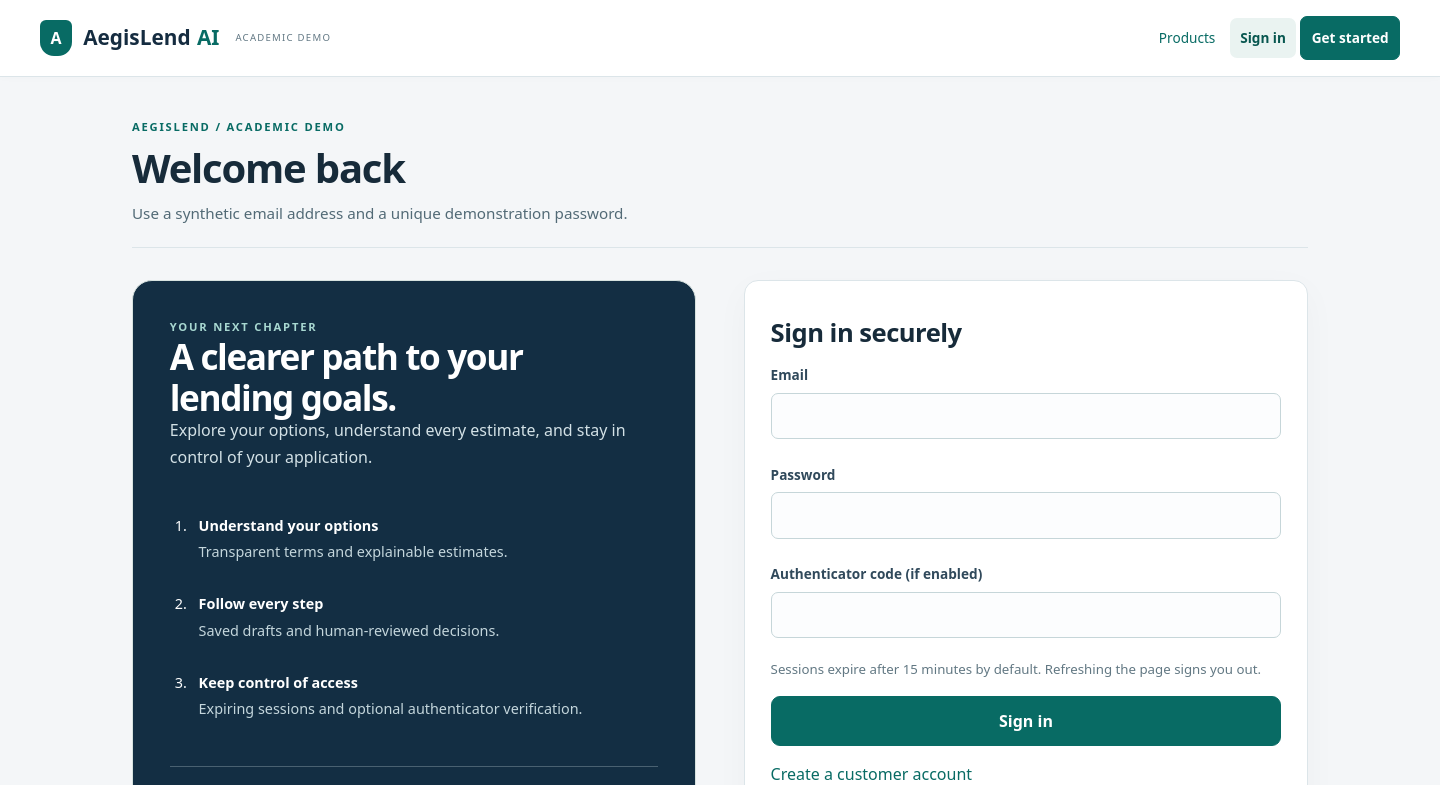
Test: appointment conflict is shown without a fake success
Type "synthetic@example.com" into the field labelled "Email".
click(1026, 416); type("synthetic@example.com")  # box [771,393,1281,439]
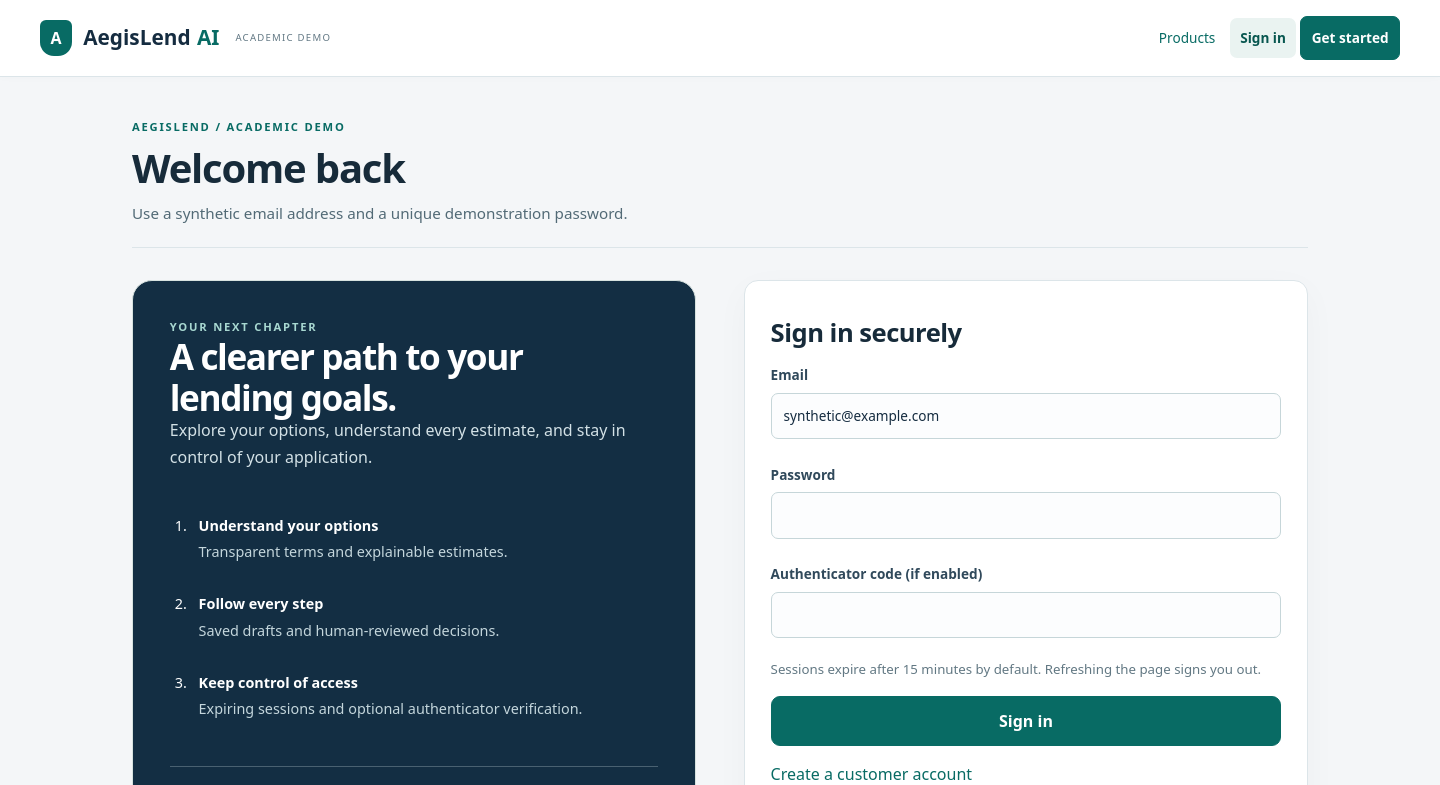
Type "synthetic-test-input-only" into the password field labelled "Password".
click(1026, 516); type("synthetic-test-input-only")  # box [771,492,1281,539]
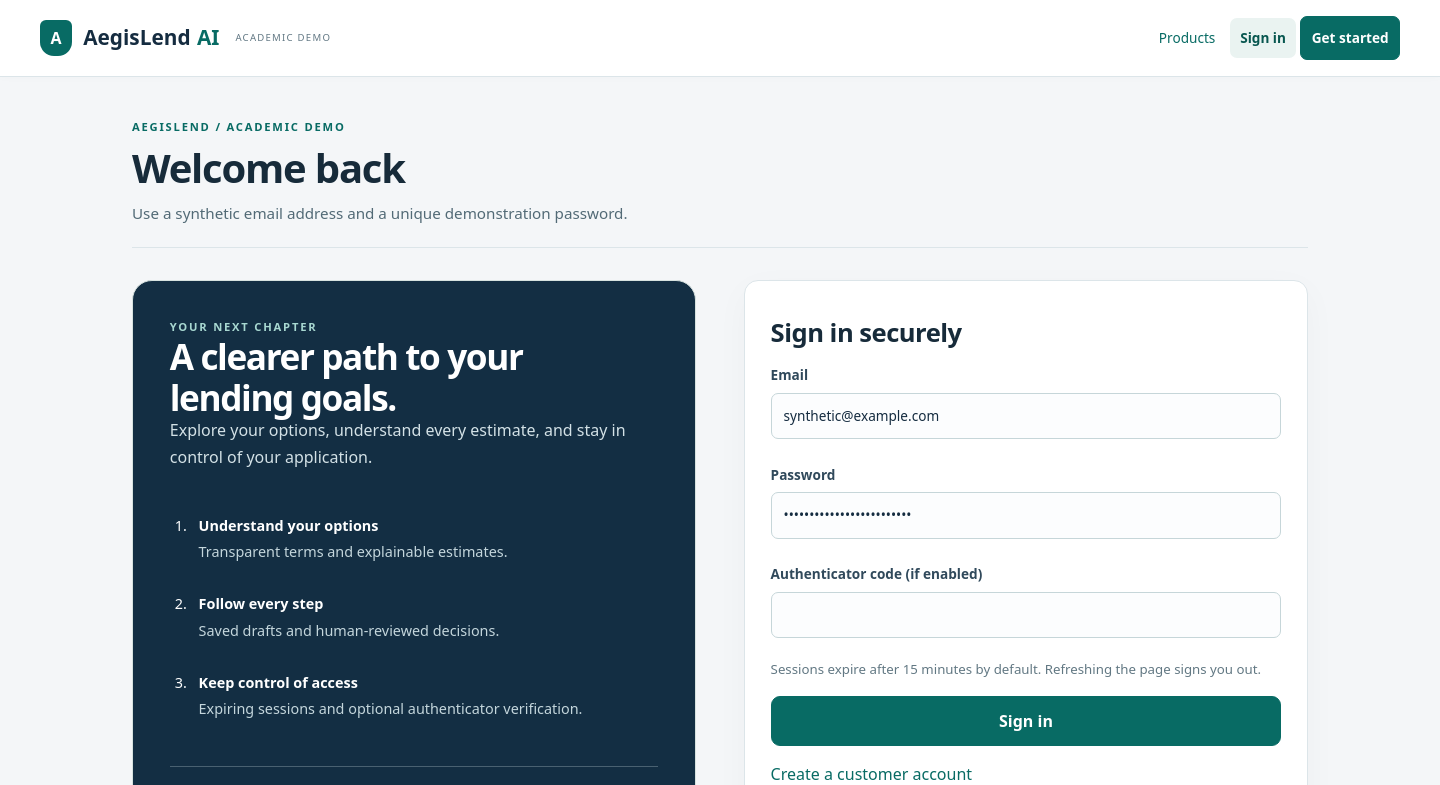
Click the button "Sign in".
click(1026, 721)  # box [771,696,1281,746]
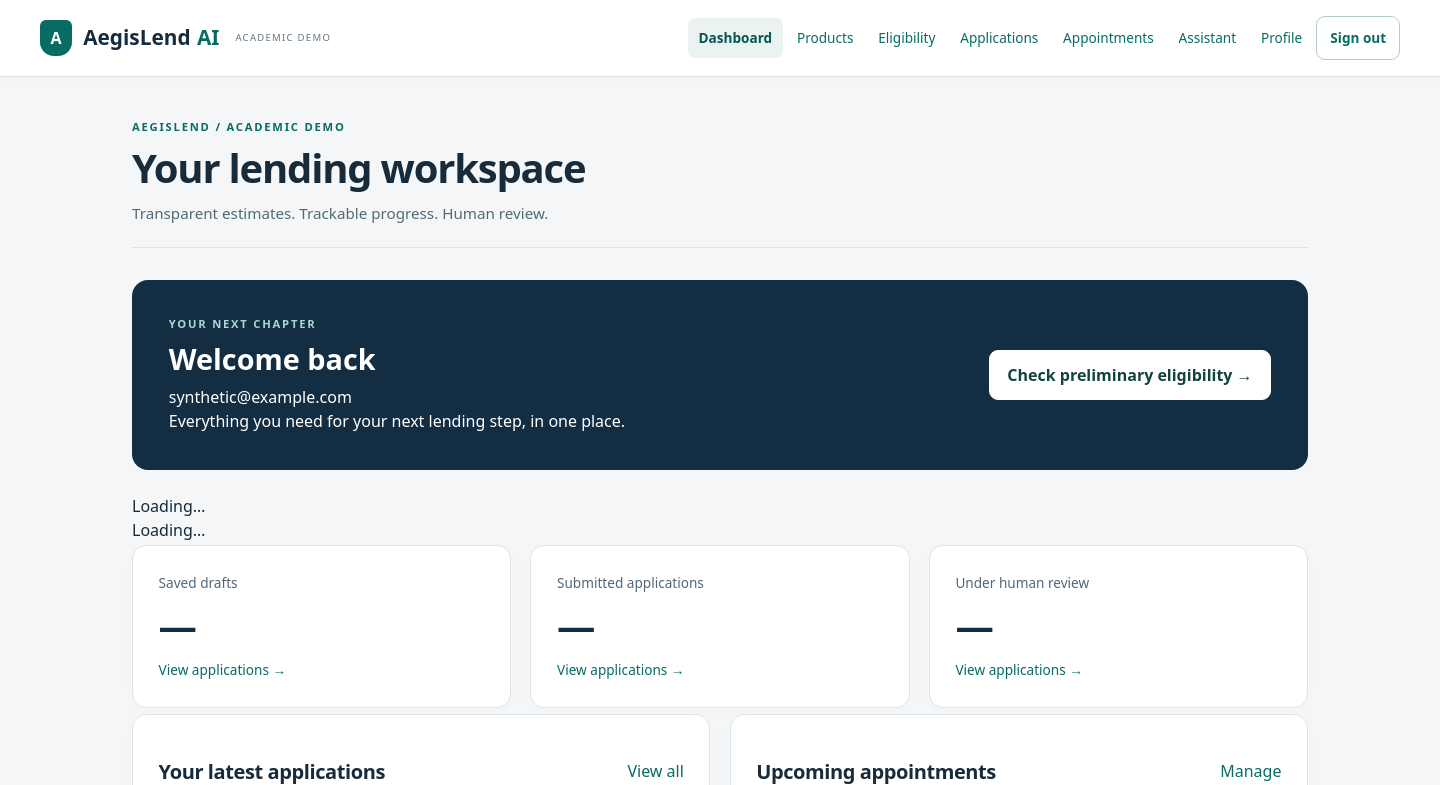
Check: the heading "Your lending workspace" is shown, box [132,140,585,195]
Click the link "Appointments".
click(1108, 37)  # box [1063,28,1154,47]
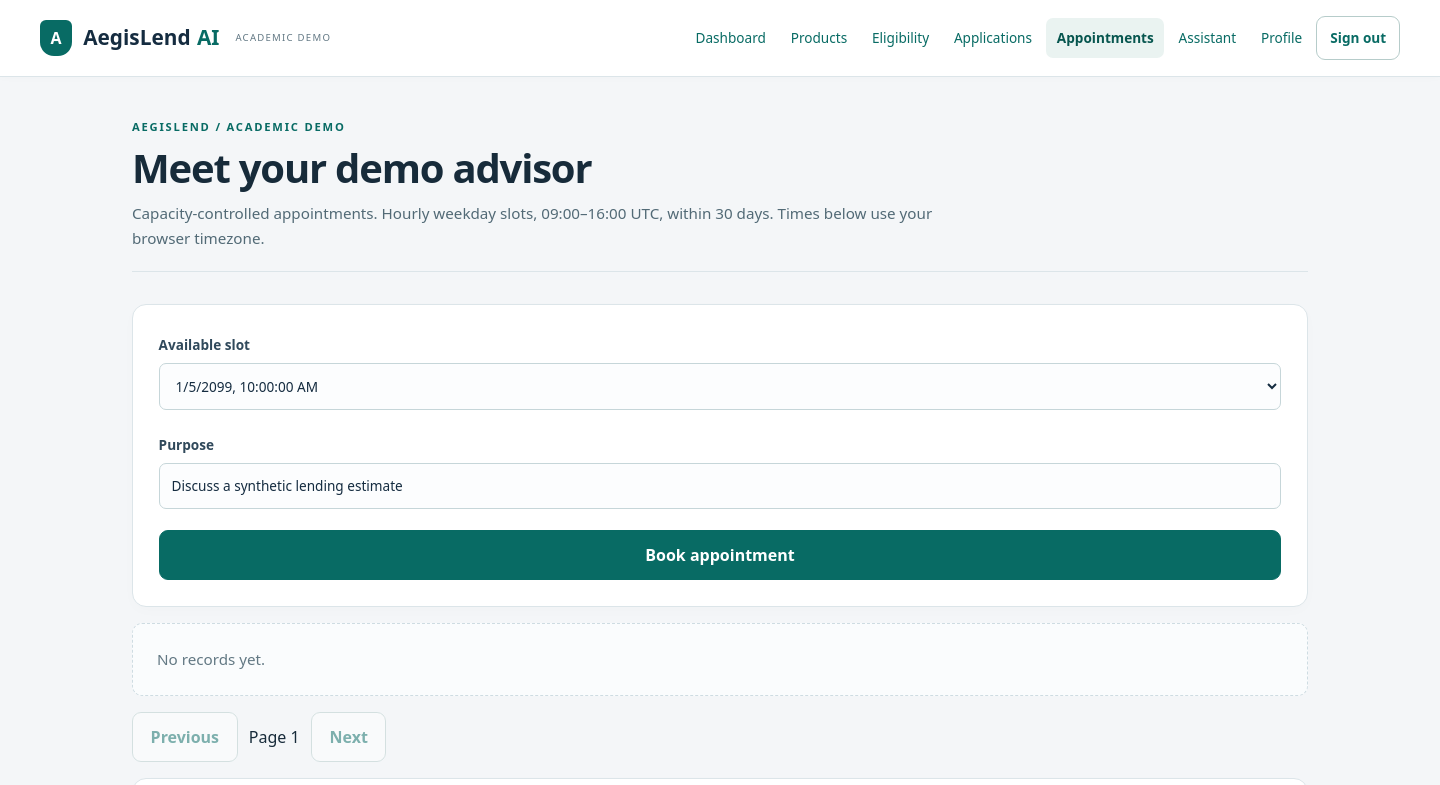
Check: the button "Book appointment" is enabled
Click the button "Book appointment".
click(720, 555)  # box [159,530,1281,580]
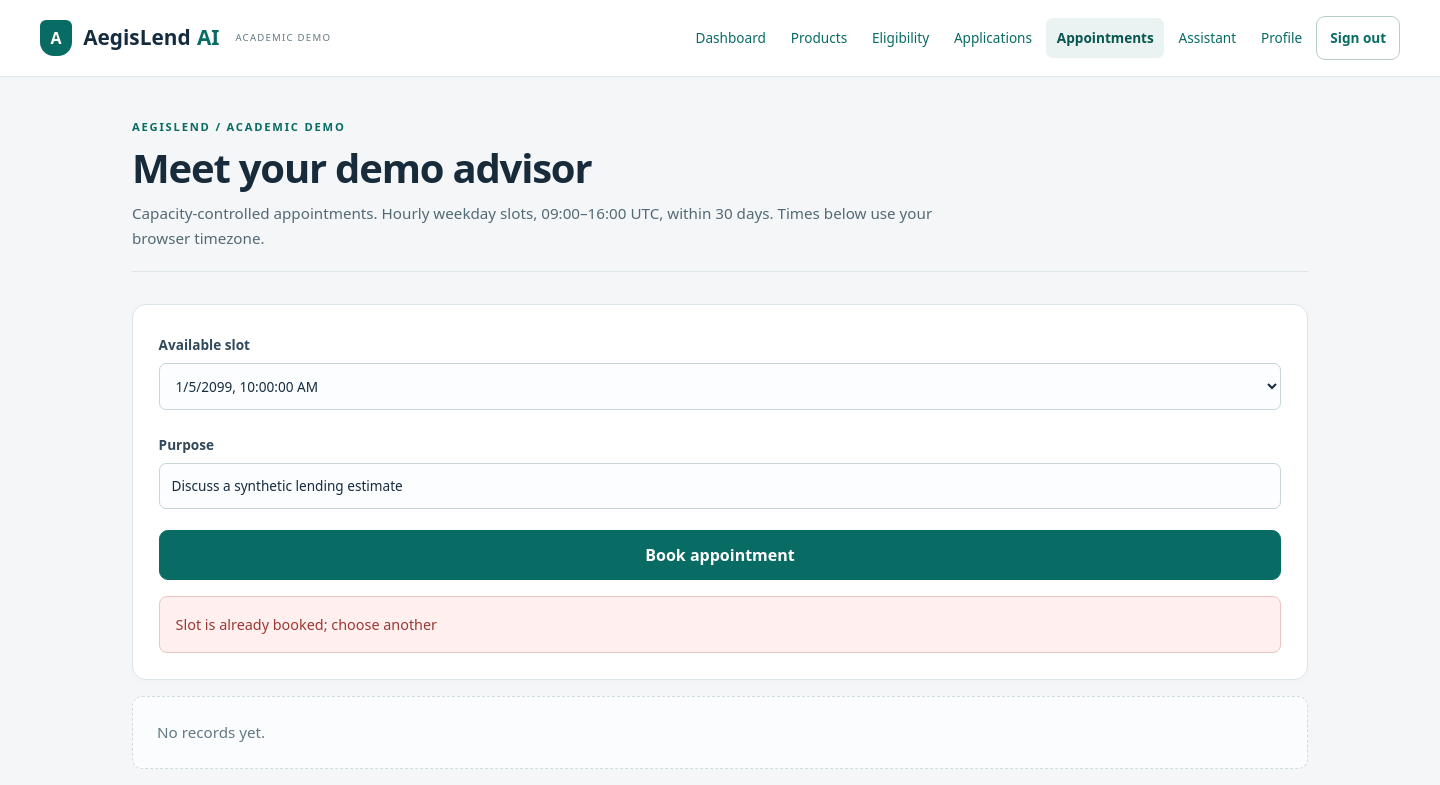
Check: the message shows "Slot is already booked", box [176,615,437,634]
